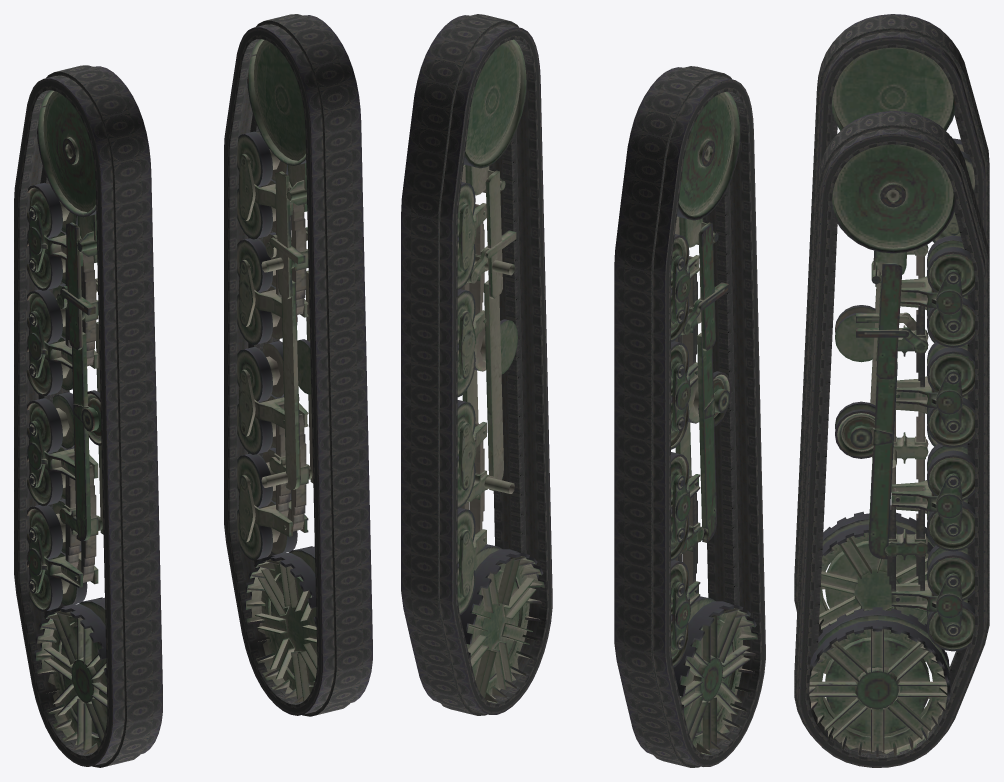
The model's file is Chassis.glb.
3 renders of one model, left to right at view 1: azimuth 30°, elevation 25°; view 2: azimuth 150°, elevation 25°; view 3: azimuth 270°, elevation 25°, orthographic. The views are drawn at different scales.
Parts seen in each view (by area): view 1: set_0_group_0, set_1_group_0, set_3_group_0, set_2_group_0; view 2: set_0_group_0, set_1_group_0, set_3_group_0, set_2_group_0; view 3: set_3_group_0, set_1_group_0, set_2_group_0, set_0_group_0.
Part boxes in pixels (box(x1,y1,x2,y2)): set_0_group_0: box(14, 65, 162, 767); set_1_group_0: box(224, 14, 372, 716); set_3_group_0: box(237, 39, 317, 703); set_2_group_0: box(27, 90, 107, 754); set_0_group_0: box(614, 66, 765, 767); set_1_group_0: box(401, 14, 552, 715); set_3_group_0: box(457, 39, 544, 703); set_2_group_0: box(671, 91, 757, 755); set_3_group_0: box(809, 144, 974, 756); set_1_group_0: box(794, 111, 989, 767); set_2_group_0: box(819, 47, 974, 629); set_0_group_0: box(794, 14, 989, 636).
Bounding box in the file's own units: 1.78 × 4.44 × 1.23.
Materials: 4 (4 with a texture image).
